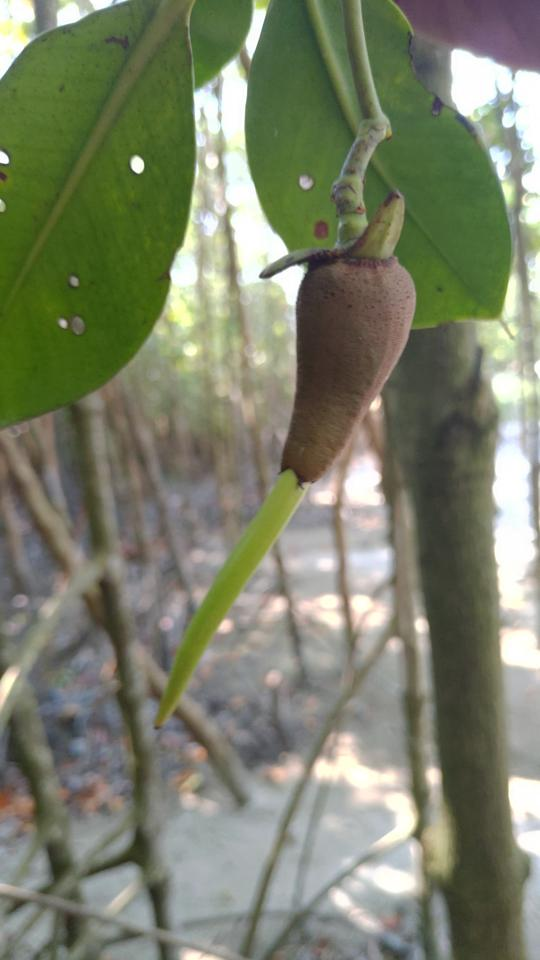mentah: (127, 210, 427, 752)
